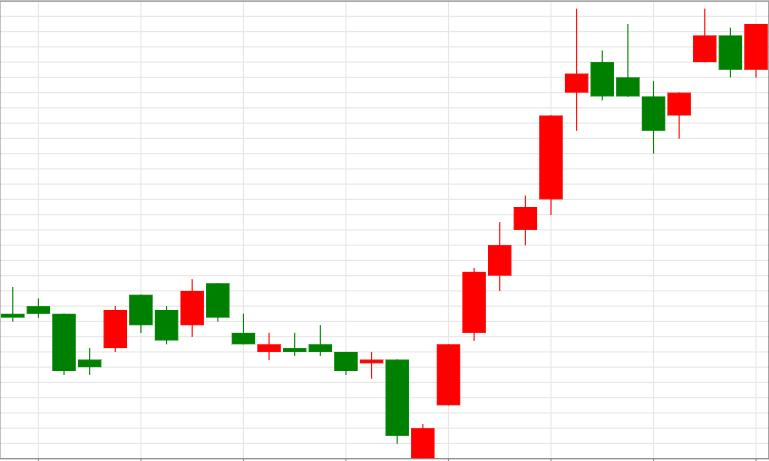three_white_soldiers_rise: (206, 268, 485, 459)
